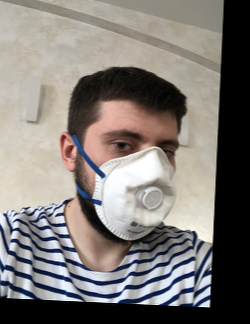with_mask: (90, 115, 178, 244)
